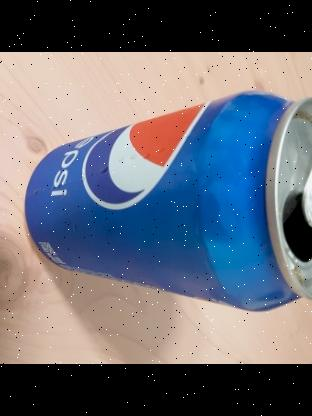Can: (22, 92, 312, 312)
